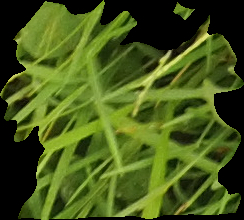grass: (1, 1, 242, 219)
